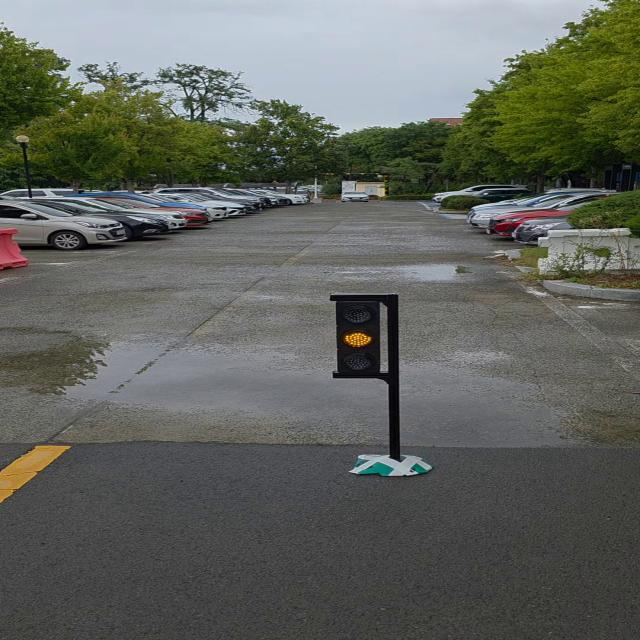yellow: (338, 297, 387, 373)
